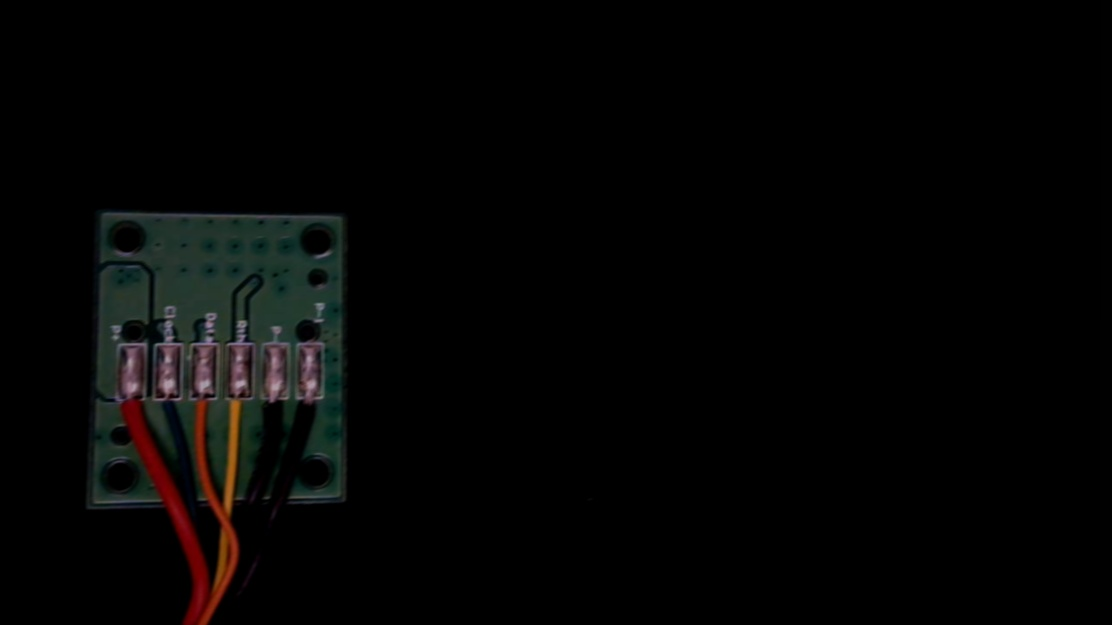Black: (261, 383, 288, 438)
Black1: (297, 380, 326, 439)
Green: (154, 381, 185, 443)
Orange: (189, 381, 219, 445)
Red: (116, 383, 146, 444)
Yellow: (224, 384, 254, 449)
